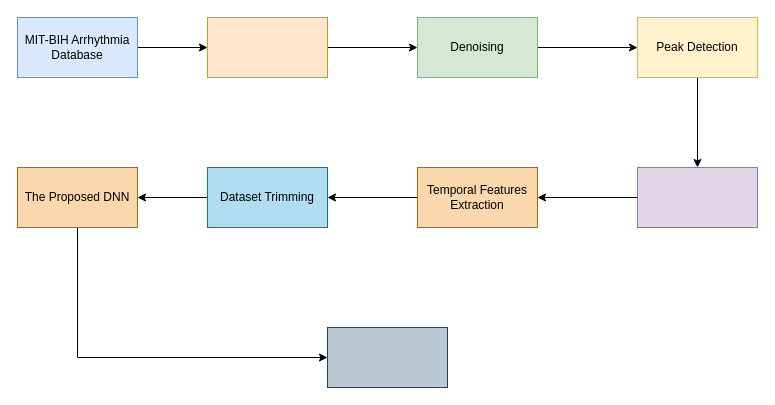
Some shapes in this 775 by 405 pixel diagram are drawn without their labels. Each missing label, with the centre of its shape:
Limb Lead (MLII) and V1 Electrodes Dataset: the point at 267,47
Performance Evaluation: the point at 387,357
Signal Segmentation: the point at 697,197
